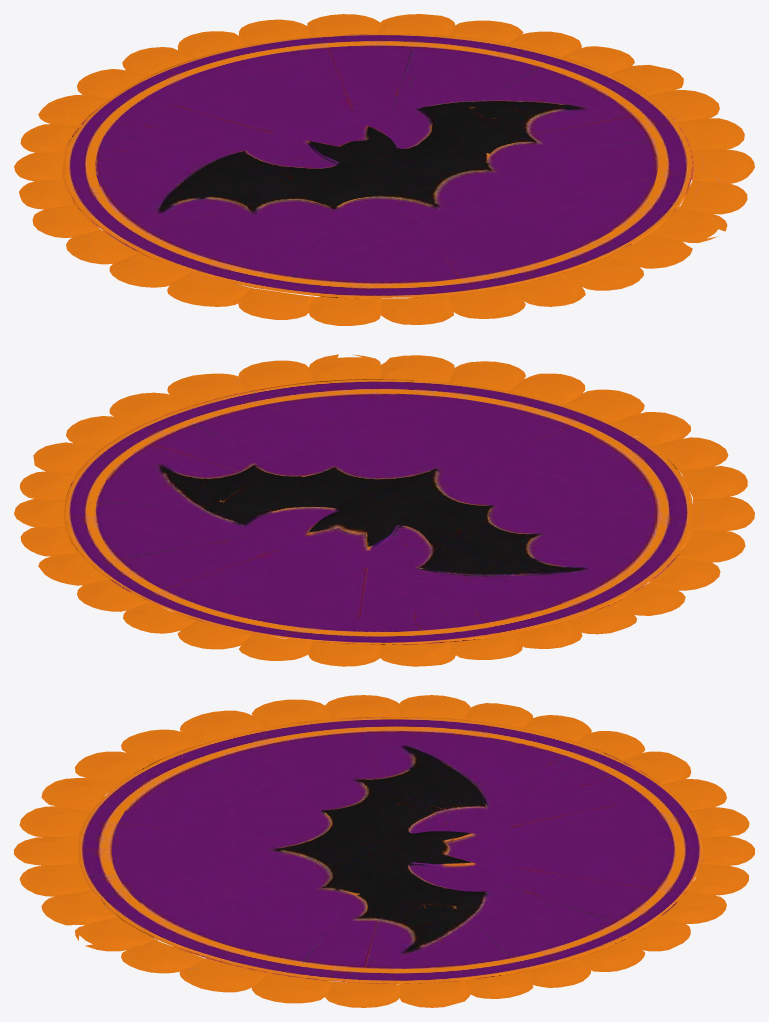
The model's file is halloween_bat_rug.glb.
3 renders of one model, top to bottom at view 1: azimuth 30°, elevation 25°; view 2: azimuth 150°, elevation 25°; view 3: azimuth 270°, elevation 25°, orthographic.
Parts seen in each view (by area): view 1: furniture-fit; view 2: furniture-fit; view 3: furniture-fit.
Boxes of the visible parts, x1,y1,x2,y2 form: furniture-fit: (14,14,754,325); furniture-fit: (14,354,754,666); furniture-fit: (14,695,754,1007).
Size of the model in its own units: 3.6 by 0.0455 by 3.6.
1 material, 1 textured.
